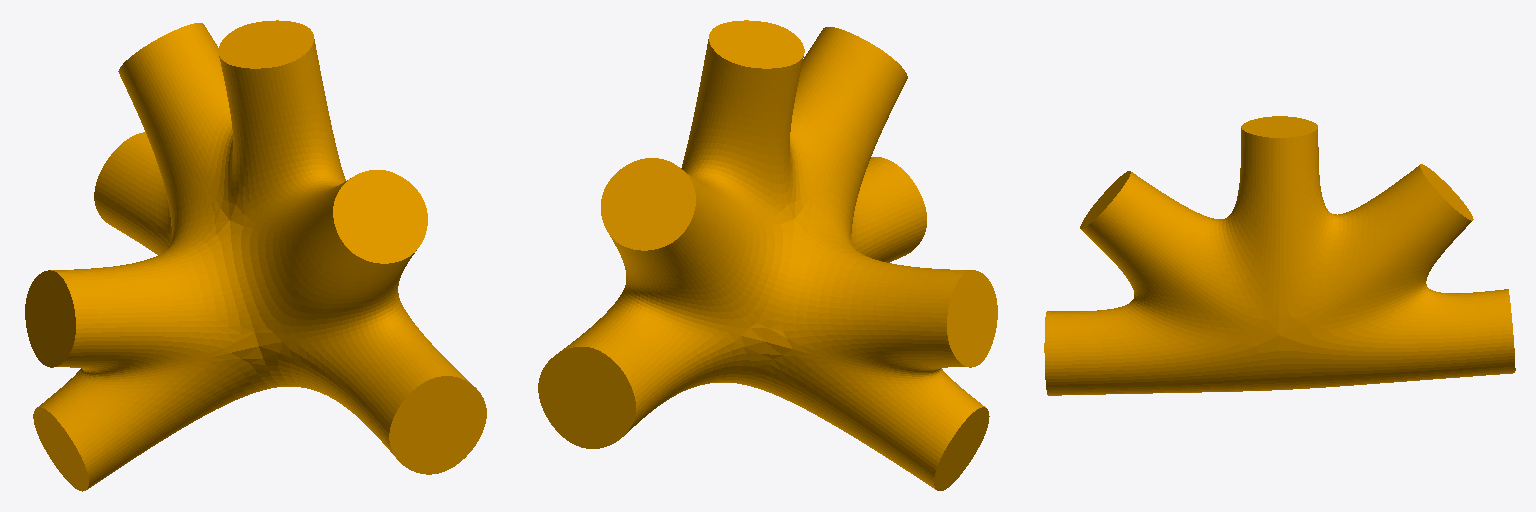
The robot description file, URDF, robot "object":
<robot name="object">
  <link name="object">
    <visual>
      <origin xyz="0 0 0"/>
      <geometry>
        <mesh filename="visual.obj" scale="1 1 1"/>
      </geometry>
    </visual>
    <collision>
      <origin xyz="0 0 0"/>
      <geometry>
        <mesh filename="collision.obj" scale="1 1 1"/>
      </geometry>
    </collision>
    <inertial>
      <mass value="0.05"/>
      <inertia ixx="0.00016474105561581817" iyy="9.521894158263664e-05" izz="0.00015758724386972833" ixy="7.618320202893514e-07" ixz="-1.4171224064143438e-05" iyz="-3.894044390010789e-06"/>
    </inertial>
  </link>
</robot>

--- What the picture shows (computed from the rendered views, not written in the file) ---
The picture shows the robot from 3 angles, left to right: view 1: azimuth 30°, elevation 25°; view 2: azimuth 150°, elevation 25°; view 3: azimuth 270°, elevation 25°; orthographic projection.
Model object with 1 links and 0 joints (none), rooted at object, posed all joints at 0.
Visible links, largest first — view 1: object; view 2: object; view 3: object.
Link boxes in pixels (left/top/right/bottom): object: left=25, top=20, right=486, bottom=491; object: left=538, top=20, right=997, bottom=490; object: left=1044, top=116, right=1515, bottom=395.
Size in the robot's own frame: 0.1386 by 0.2341 by 0.1733 metres.
Meshes: 1 distinct files referenced, 1 mesh visuals loaded (1 OBJ).
